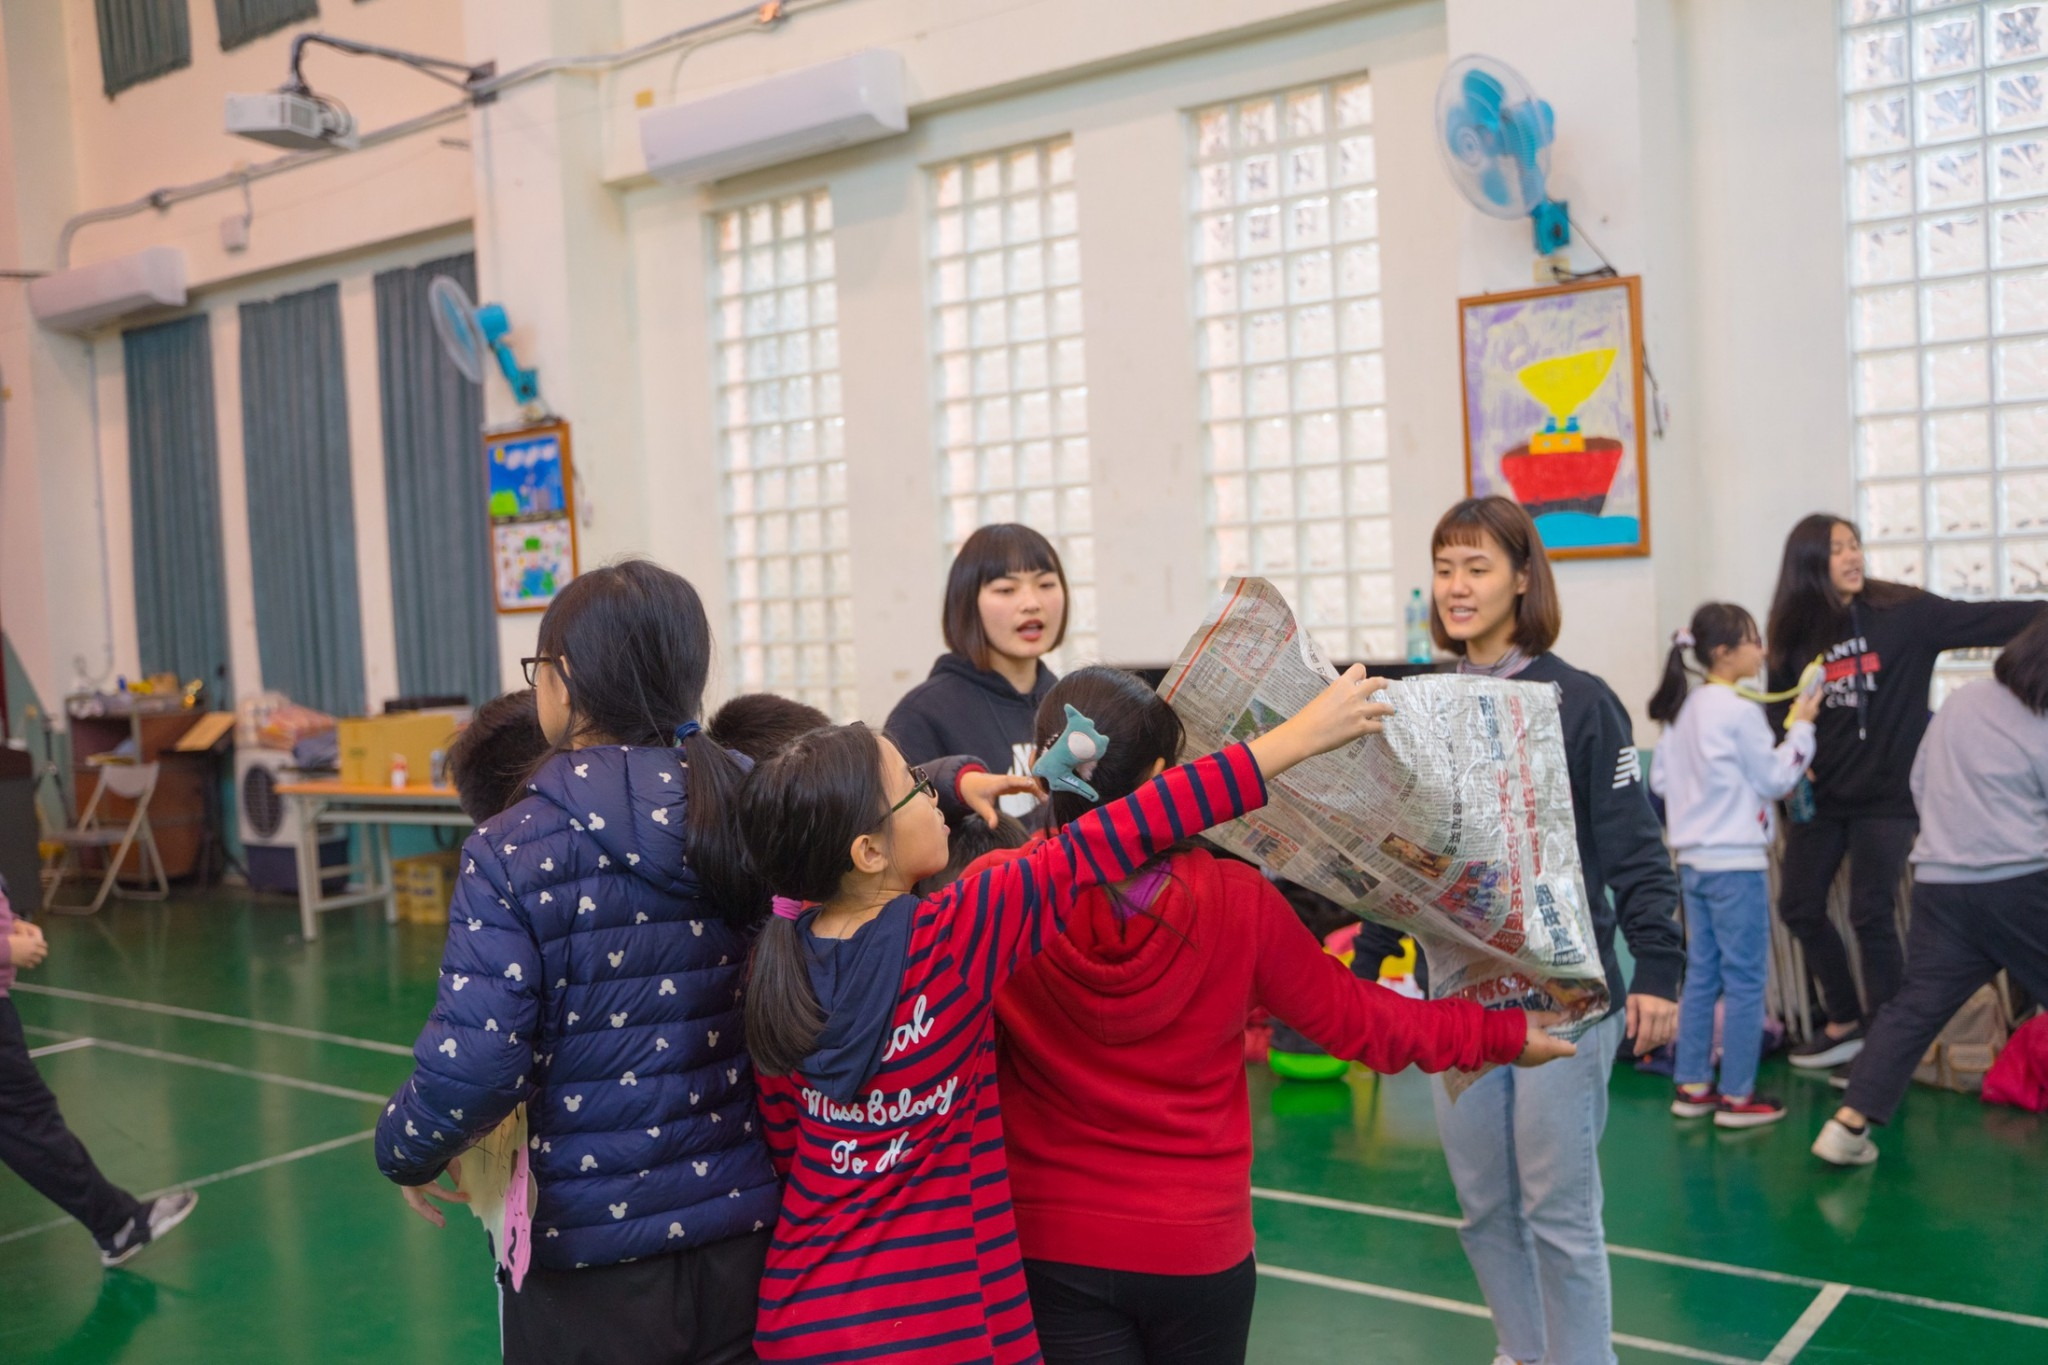people: (1404, 498, 1643, 1365), (1007, 657, 1254, 1365), (734, 722, 1002, 1360), (1766, 492, 1919, 1072), (1634, 583, 1796, 1124), (1913, 622, 2048, 1195), (890, 498, 1054, 845)
